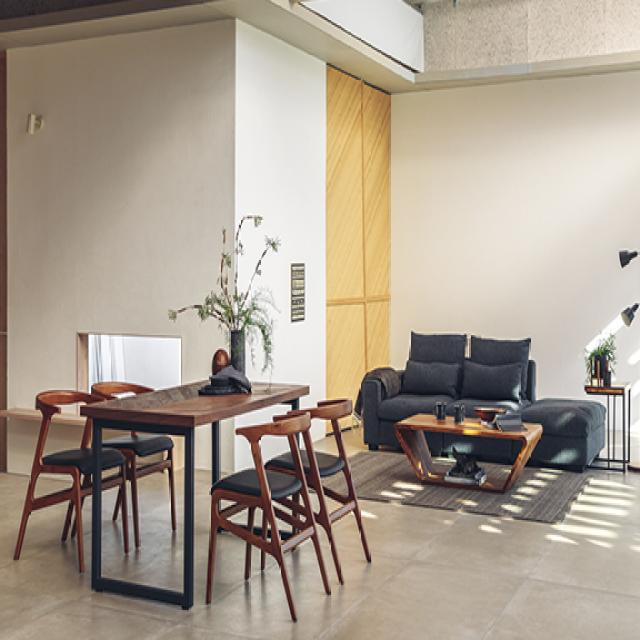modern chair: (208, 401, 334, 616)
modern desk: (86, 366, 230, 600)
modern sofa: (360, 324, 613, 467)
